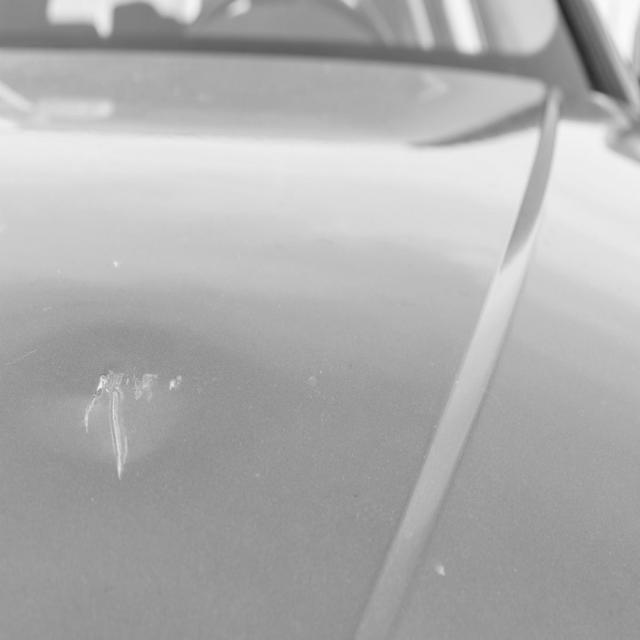scratch: (83, 369, 187, 480)
